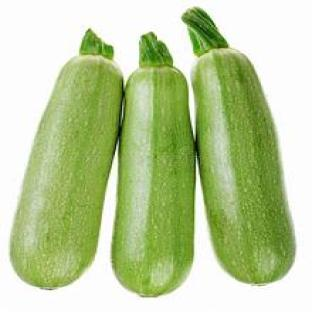Zucchini: (183, 9, 294, 283), (10, 31, 123, 289), (113, 34, 194, 296)
